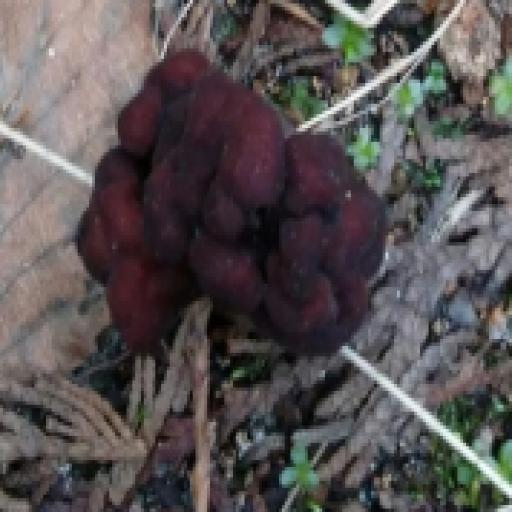mushroom: (12, 31, 442, 452)
